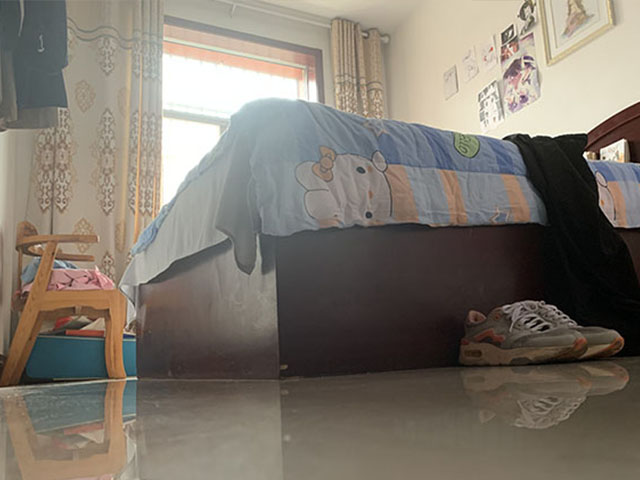bed: (127, 96, 640, 385)
curtain: (96, 2, 159, 264)
stool: (1, 220, 129, 389)
